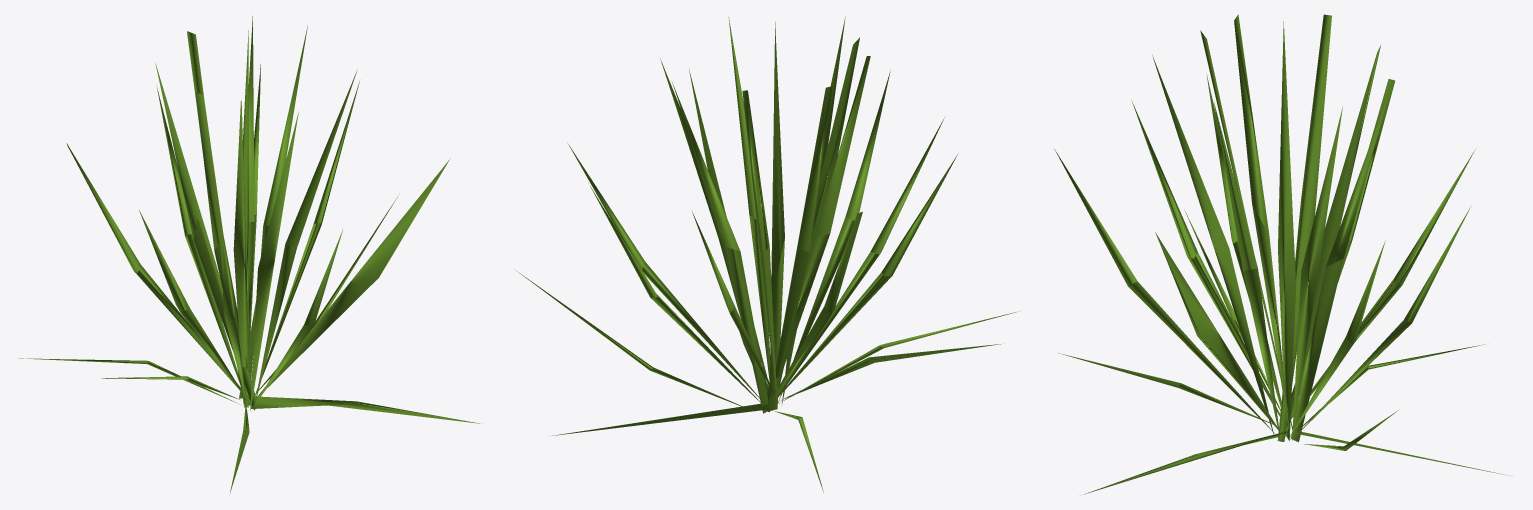
File: greengrassbush.fbx
The picture shows the model from 3 angles, left to right: view 1: azimuth 30°, elevation 25°; view 2: azimuth 150°, elevation 25°; view 3: azimuth 270°, elevation 25°; orthographic projection. The views are drawn at different scales.
Visible parts, largest first — view 1: p1-green; view 2: p1-green; view 3: p1-green.
Boxes of the visible parts, box(x1,y1,x2,y2) form: p1-green: box(19, 16, 481, 492); p1-green: box(517, 16, 1017, 492); p1-green: box(1054, 14, 1511, 494).
Size of the model in its own units: 1.83 by 1.65 by 1.65.
